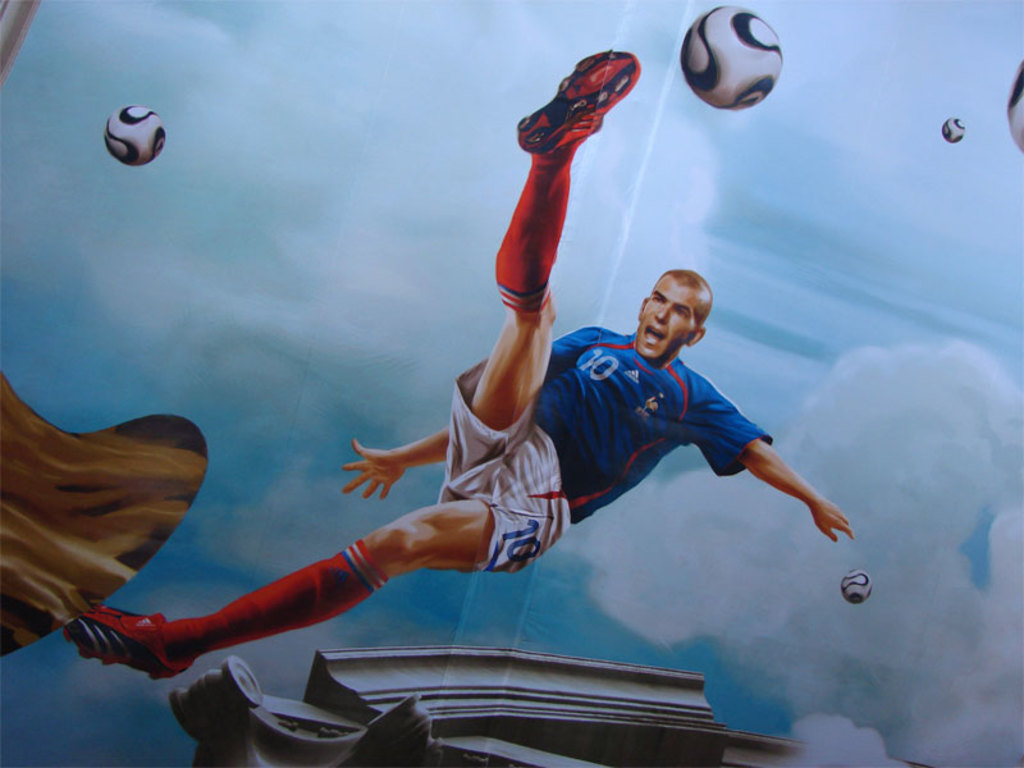Ball: (680, 8, 782, 109), (101, 105, 168, 165), (840, 570, 873, 604), (943, 114, 968, 143)
